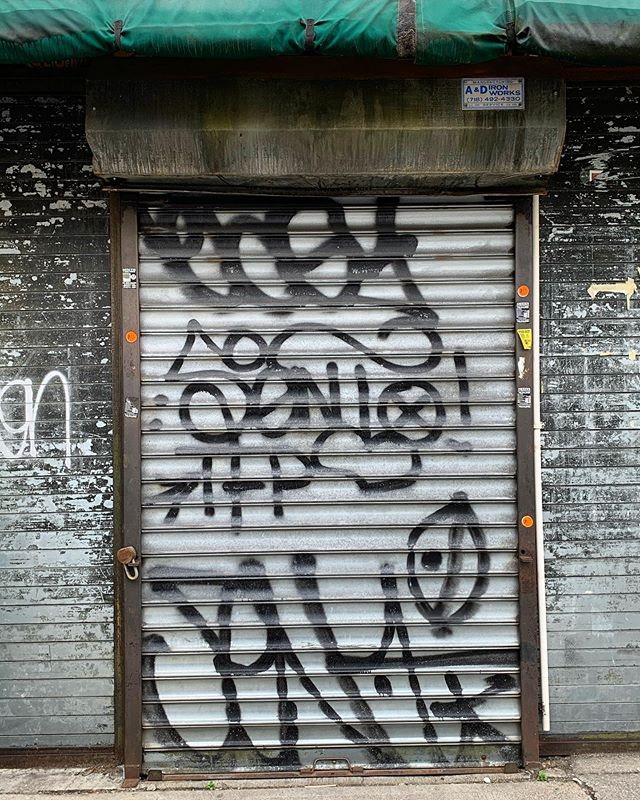graffiti: (140, 209, 517, 770)
lock: (111, 539, 144, 580)
